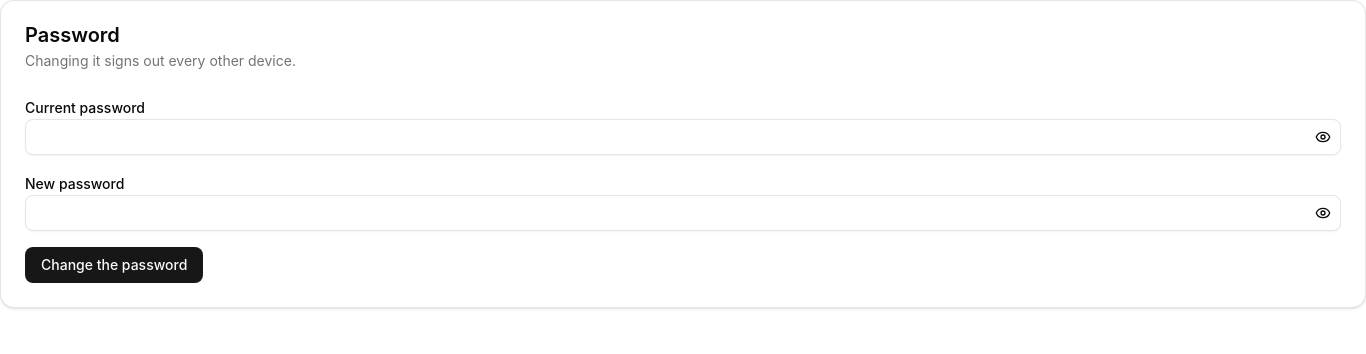
Scenario: shows a wrong current password under its field and does not sign out
Type "wrong" into the password field labelled "Current password".
click(683, 137); type("wrong")  # box [25, 119, 1341, 155]
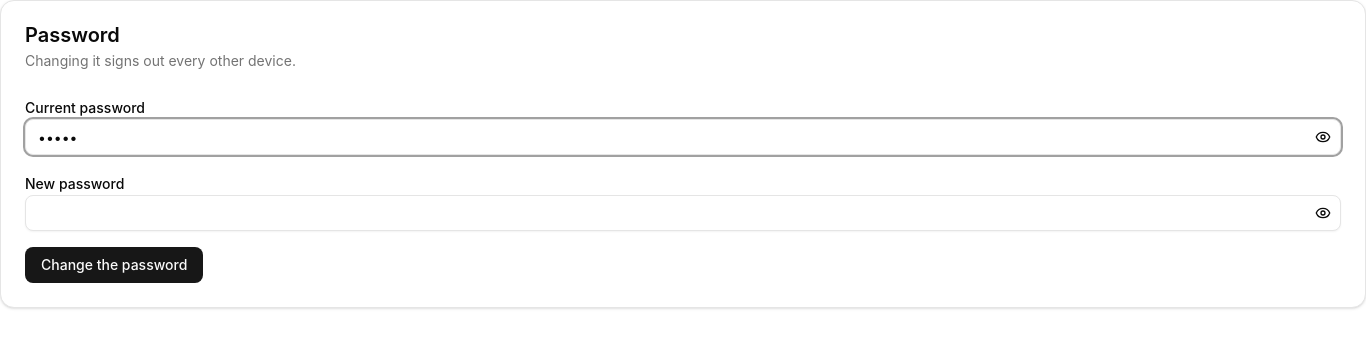
Type "new-password-1" into the password field labelled "New password".
click(683, 213); type("new-password-1")  # box [25, 195, 1341, 231]
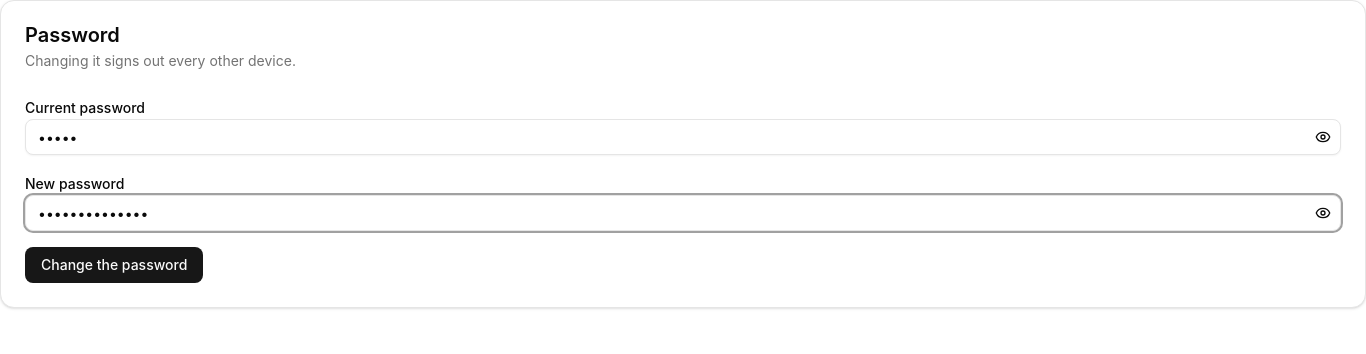
Click the button "Change the password".
click(114, 265)  # box [25, 247, 203, 283]
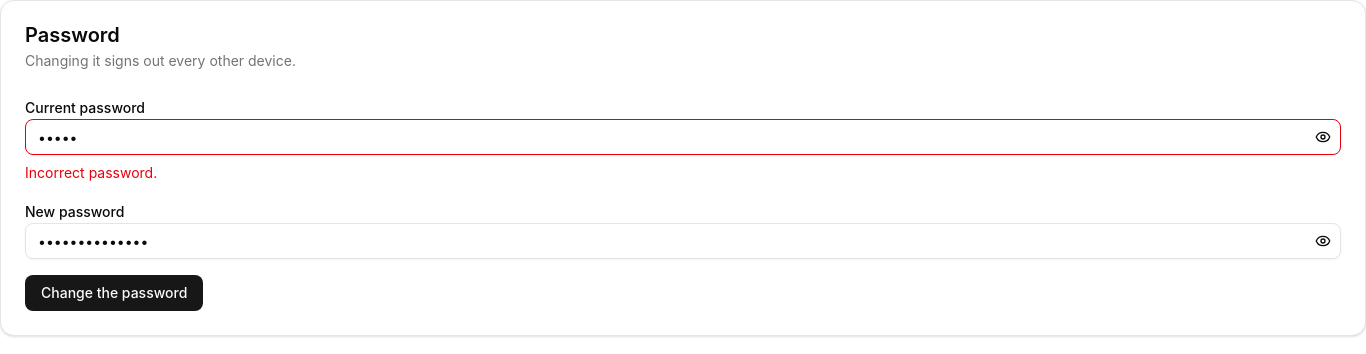
Expected: the text "Incorrect password." is shown, [25, 164, 157, 181]
